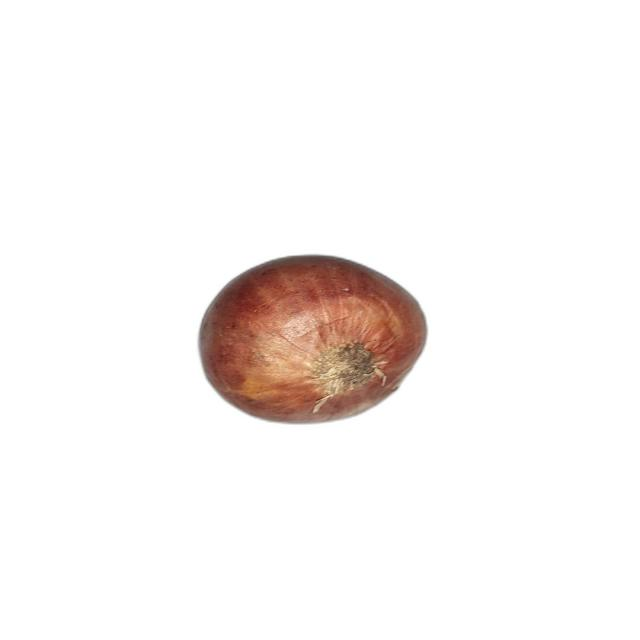onion: (198, 256, 428, 424)
